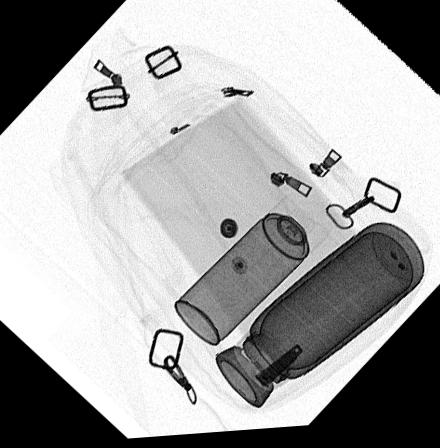Sprayer: (174, 197, 331, 347)
